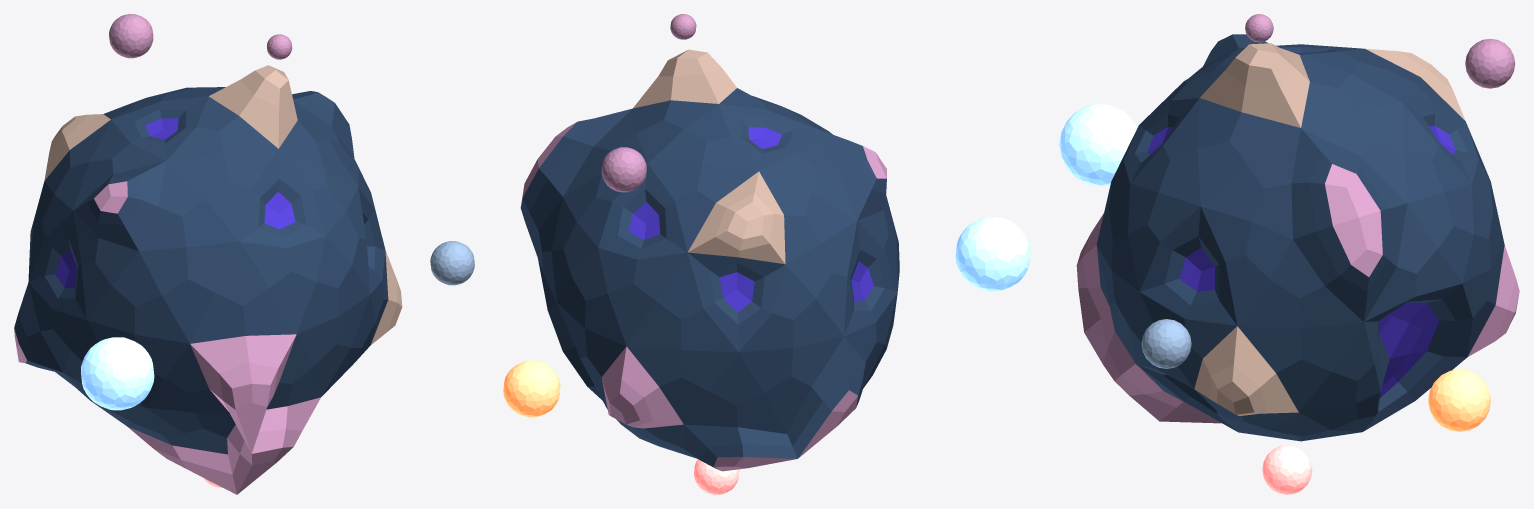
The model's file is Planet3Evo5.glb.
The picture shows the model from 3 angles, left to right: view 1: azimuth 30°, elevation 25°; view 2: azimuth 150°, elevation 25°; view 3: azimuth 270°, elevation 25°; orthographic projection. The views are drawn at different scales.
Visible parts, largest first — view 1: Icosphere.079; view 2: Icosphere.079; view 3: Icosphere.079.
Boxes of the visible parts, <box> form: Icosphere.079: <box>14,14,474,494</box>; Icosphere.079: <box>503,14,1030,494</box>; Icosphere.079: <box>1059,14,1519,494</box>.
Size of the model in its own units: 2.34 by 2.41 by 2.
